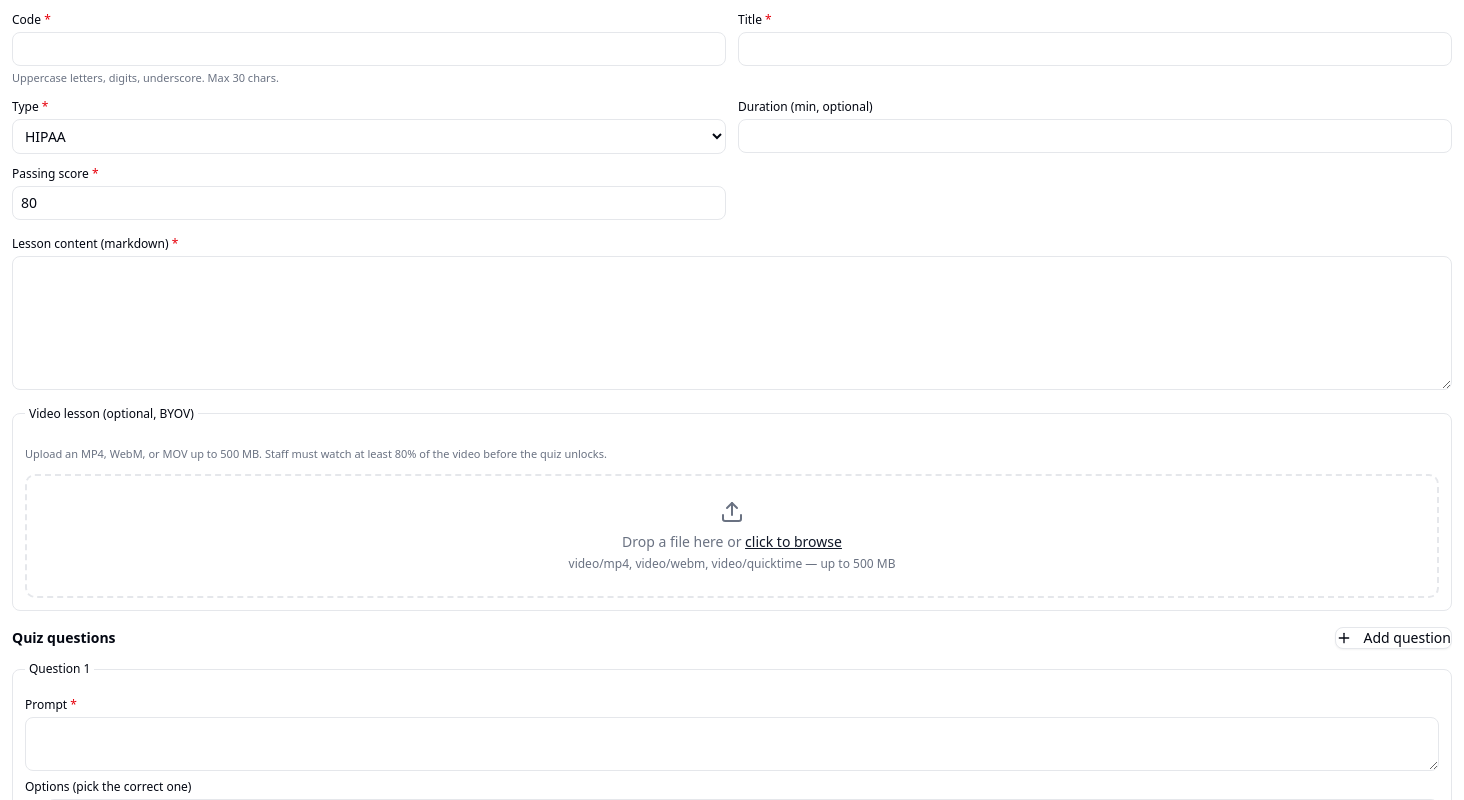
it: <CreateCourseForm> › uppercases & strips invalid characters typed into Code
Type "my-code 1!" into the field labelled "Code *" at point(369, 49), box [12,32,726,66]
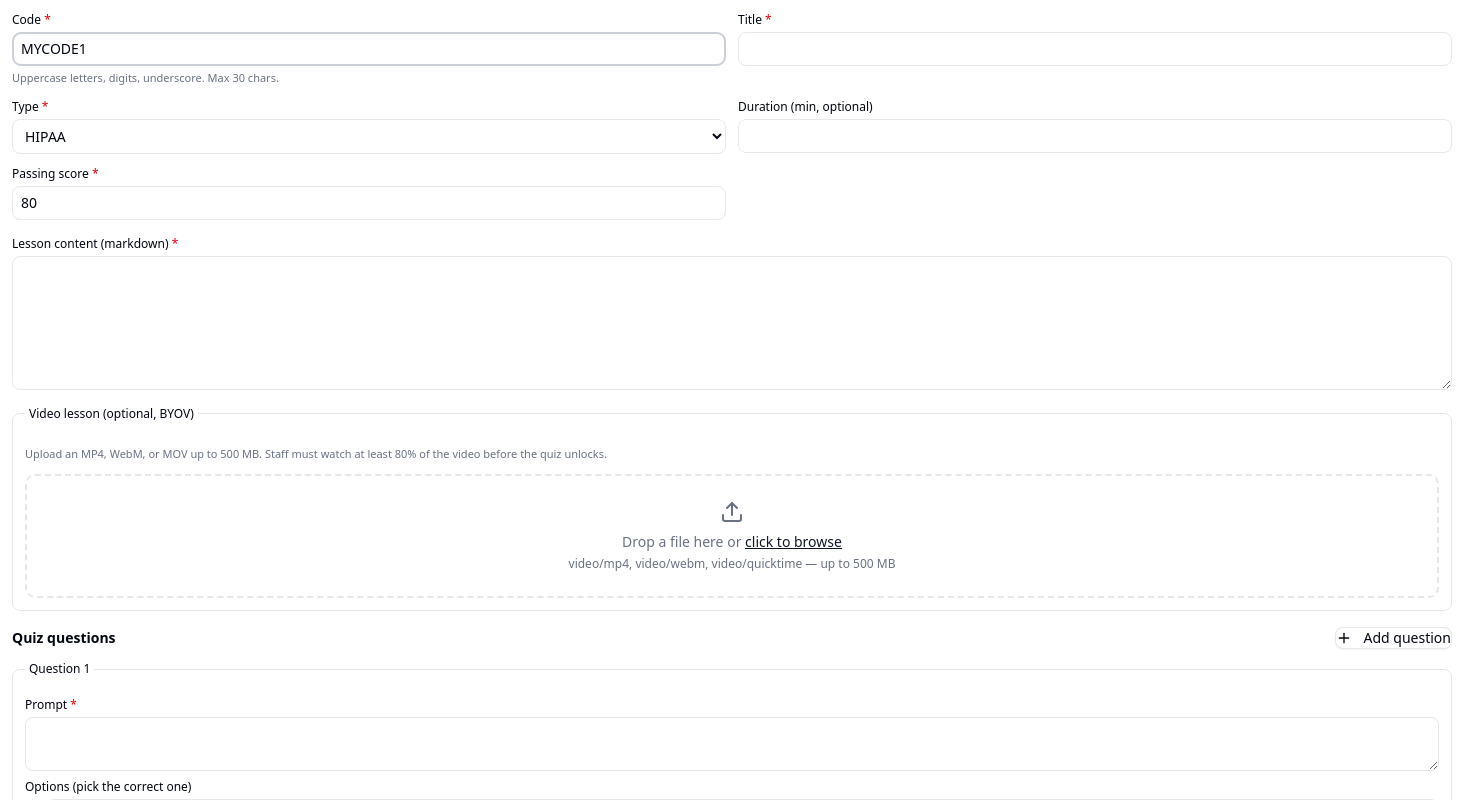
Now the field labelled "Code *" holds "MYCODE1", box [12,32,726,66]
